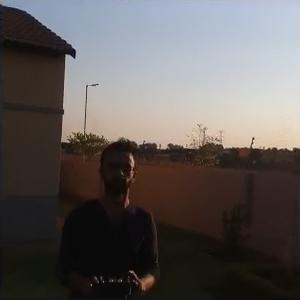follow: (50, 136, 162, 298)
